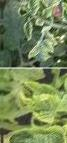Tomato leaf yellow virus: (6, 128, 67, 143), (28, 90, 67, 113), (34, 111, 60, 128), (23, 20, 33, 43), (42, 38, 54, 56), (28, 0, 38, 17), (60, 5, 67, 24)
